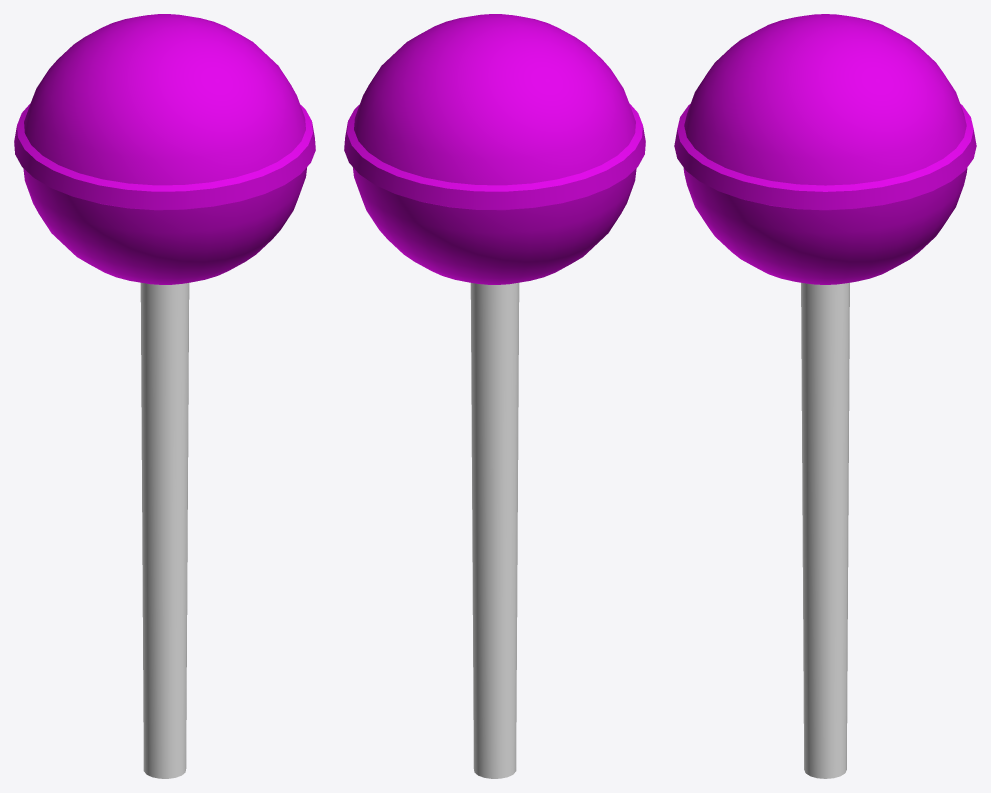
Rendered from lolly_pop.fbx.
3 renders of one model, left to right at view 1: azimuth 30°, elevation 25°; view 2: azimuth 150°, elevation 25°; view 3: azimuth 270°, elevation 25°, orthographic.
Visible parts, largest first — view 1: Sphere, Cylinder; view 2: Sphere, Cylinder; view 3: Sphere, Cylinder.
Boxes of the visible parts, x1,y1,x2,y2 form: Sphere: [14, 14, 315, 284]; Cylinder: [140, 282, 189, 778]; Sphere: [344, 14, 645, 284]; Cylinder: [470, 282, 519, 778]; Sphere: [674, 14, 976, 284]; Cylinder: [801, 282, 849, 778].
Bounding box in the file's own units: 257 × 695 × 257.
